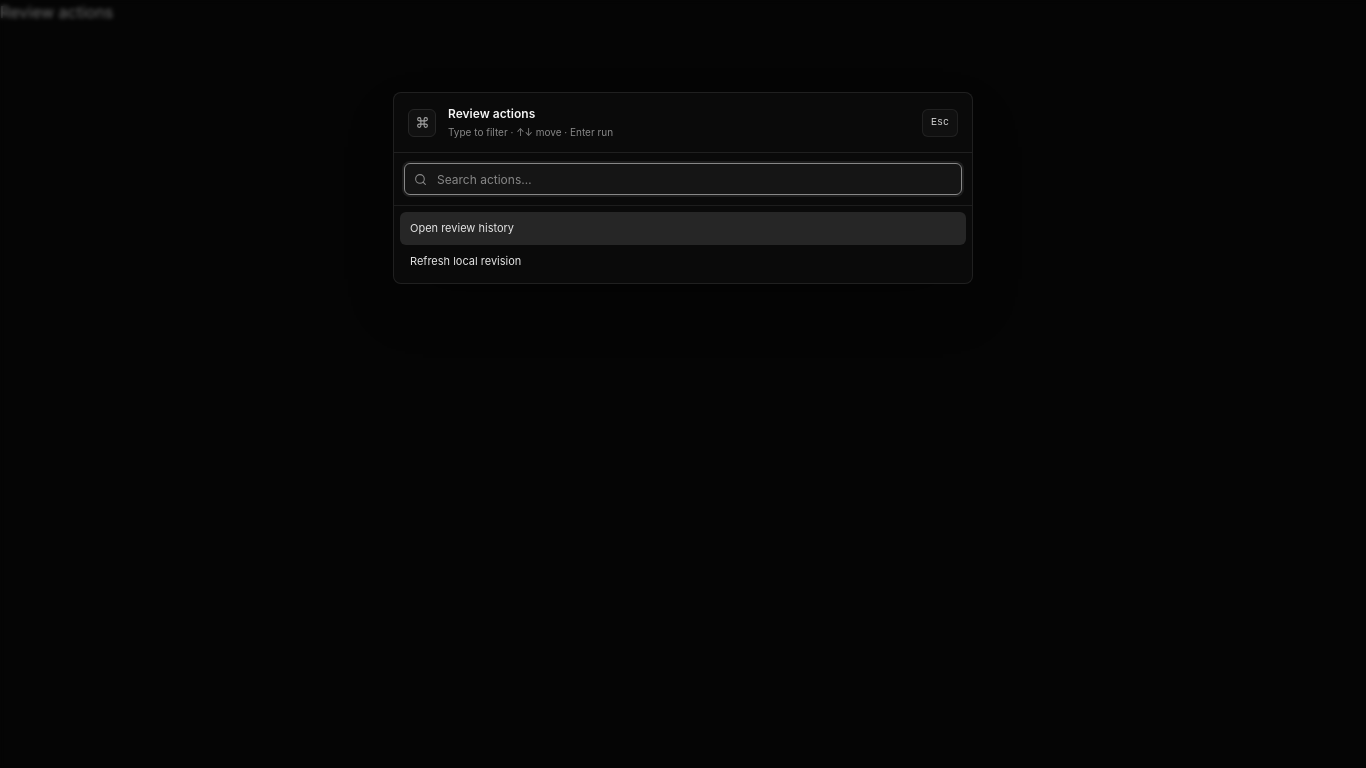
it: ReviewCommandPalette › hands a dialog-opening action a usable dialog: focus inside it, Escape closes it
Click the option "Open review history": (462, 228) [400,212,966,245]
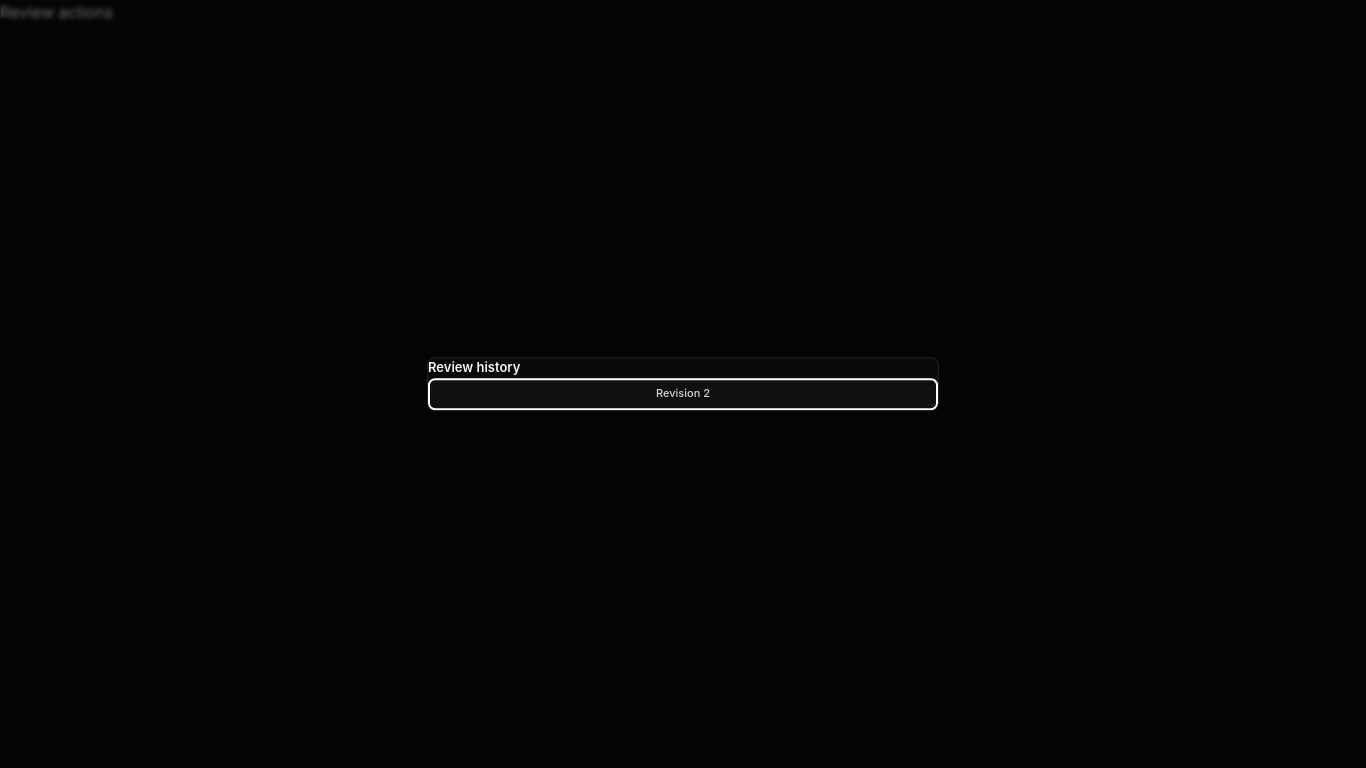
Press Escape
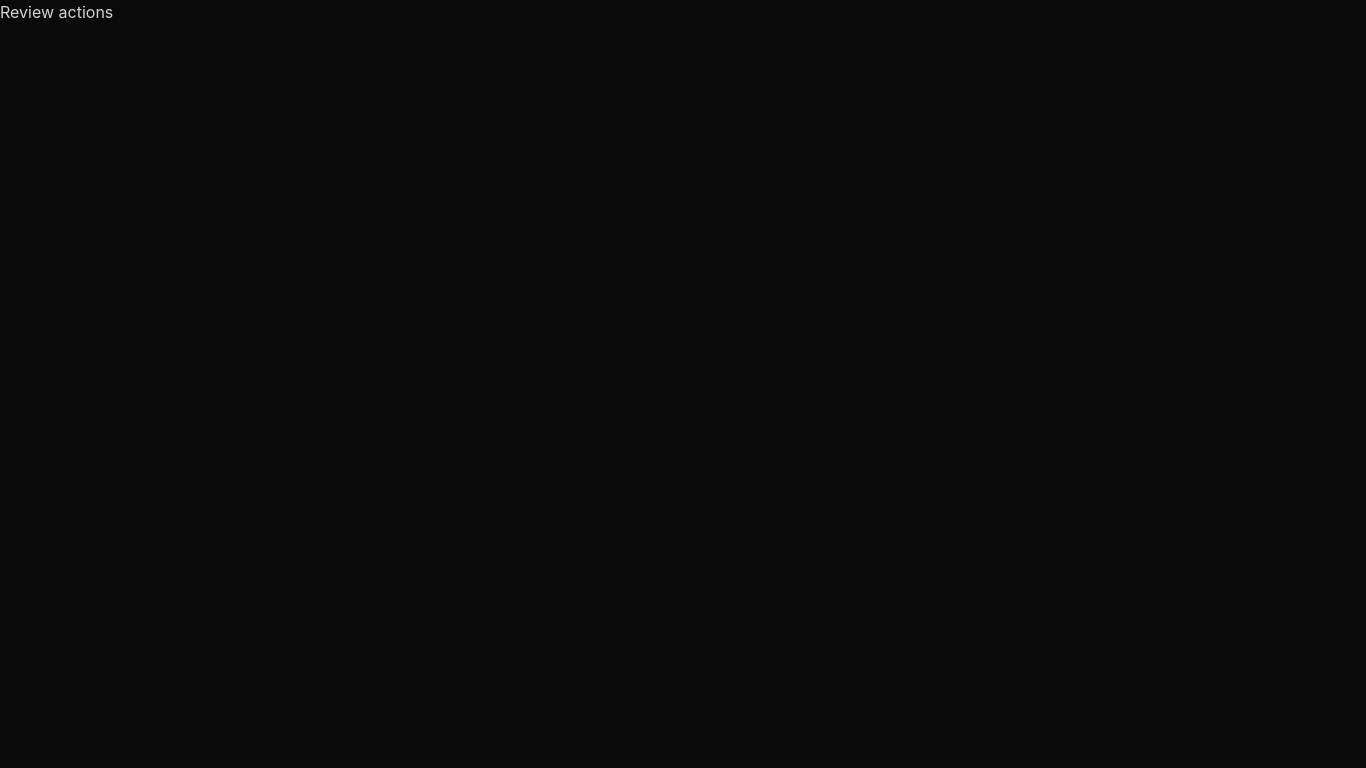
Result: the heading "Review history" is gone
